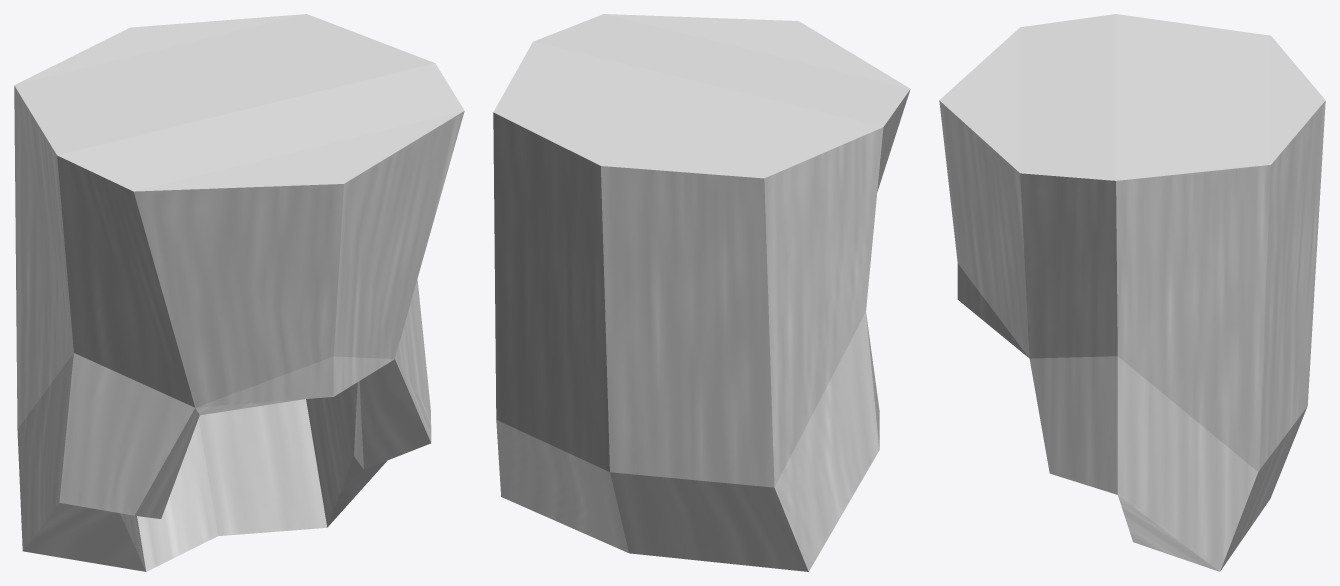
Rendered from slim_jim.glb.
3 renders of one model, left to right at view 1: azimuth 30°, elevation 25°; view 2: azimuth 150°, elevation 25°; view 3: azimuth 270°, elevation 25°, orthographic. The views are drawn at different scales.
Visible parts, largest first — view 1: Slim Jim; view 2: Slim Jim; view 3: Slim Jim.
Boxes of the visible parts, bbox=[...] form: Slim Jim: bbox=[14, 14, 464, 571]; Slim Jim: bbox=[493, 14, 910, 571]; Slim Jim: bbox=[939, 14, 1325, 571].
Size of the model in its own units: 0.2768 by 0.313 by 0.2708.
1 material, 1 textured.
